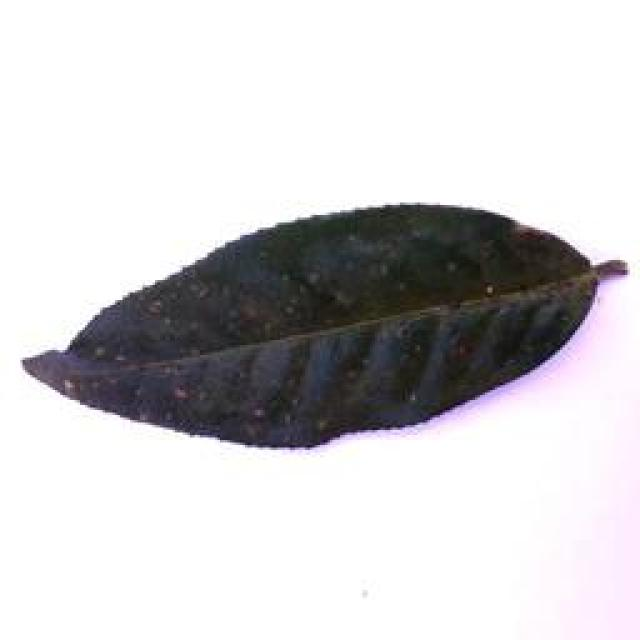Algal Leaf Spot: (18, 199, 640, 452)
